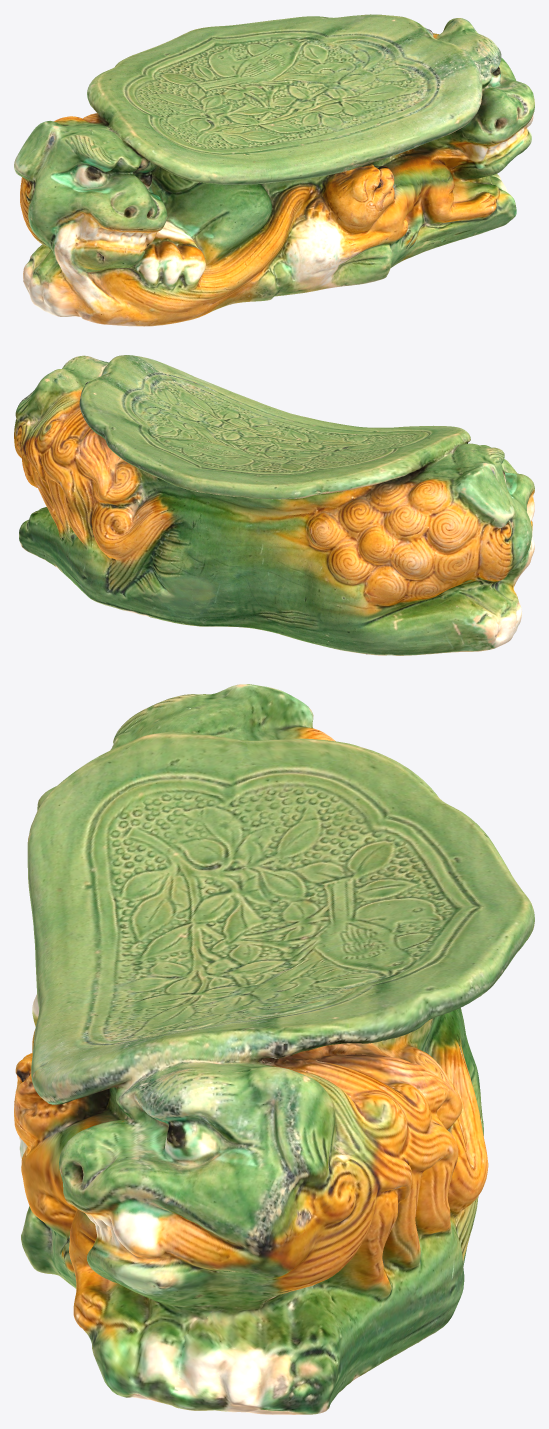
File: headrest.glb
The picture shows the model from 3 angles, top to bottom: view 1: azimuth 30°, elevation 25°; view 2: azimuth 150°, elevation 25°; view 3: azimuth 270°, elevation 25°; orthographic projection. The views are drawn at different scales.
Parts seen in each view (by area): view 1: Object_2; view 2: Object_2; view 3: Object_2.
Boxes of the visible parts, bbox=[...] form: Object_2: bbox=[14, 14, 534, 326]; Object_2: bbox=[14, 355, 534, 655]; Object_2: bbox=[14, 684, 534, 1414].
Size of the model in its own units: 77.99 by 27.62 by 37.89.
Materials: 1 (1 with a texture image).
